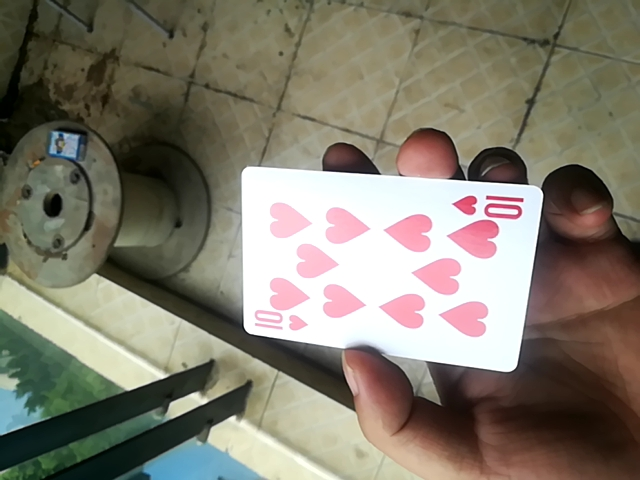hx 10: (236, 160, 540, 371)
